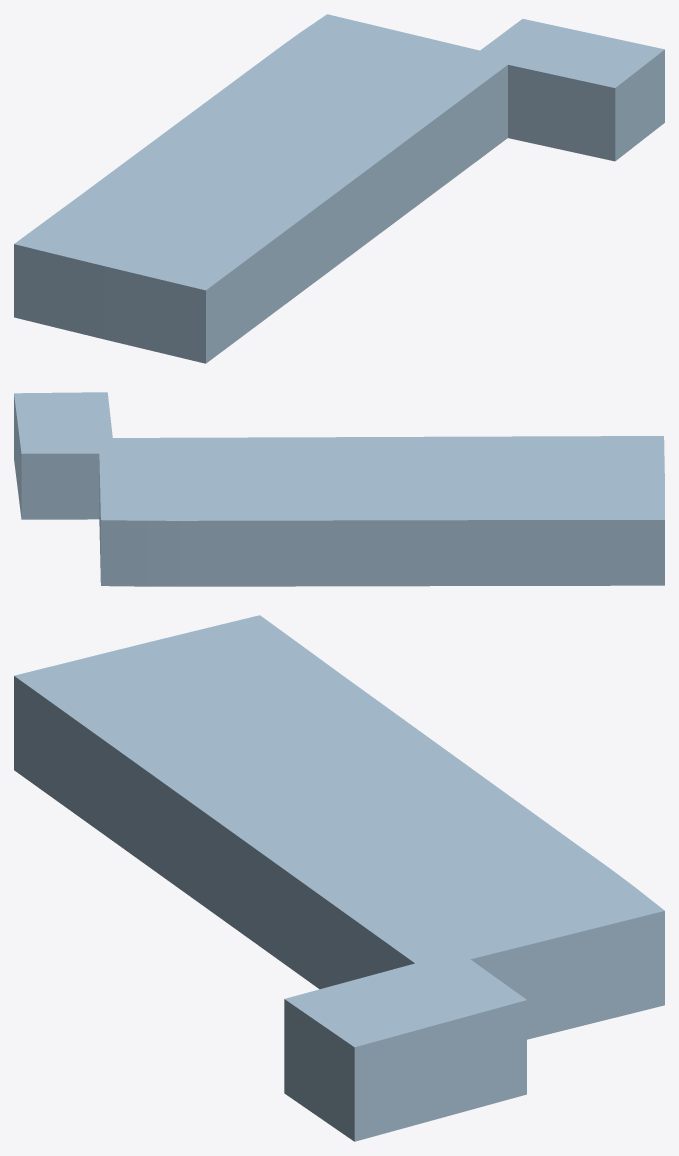
Rendered from osm_way_223859807.glb.
3 views of the same model, one above another, from view 1: azimuth 30°, elevation 25°; view 2: azimuth 150°, elevation 25°; view 3: azimuth 270°, elevation 25° (orthographic). The views are drawn at different scales.
Visible parts, largest first — view 1: osm_way_223859807; view 2: osm_way_223859807; view 3: osm_way_223859807.
Part boxes in pixels (x1,y1,x2,y2): osm_way_223859807: [14, 14, 664, 363]; osm_way_223859807: [14, 392, 664, 586]; osm_way_223859807: [14, 615, 664, 1141].
Size of the model in its own units: 39.25 by 4 by 24.98.
